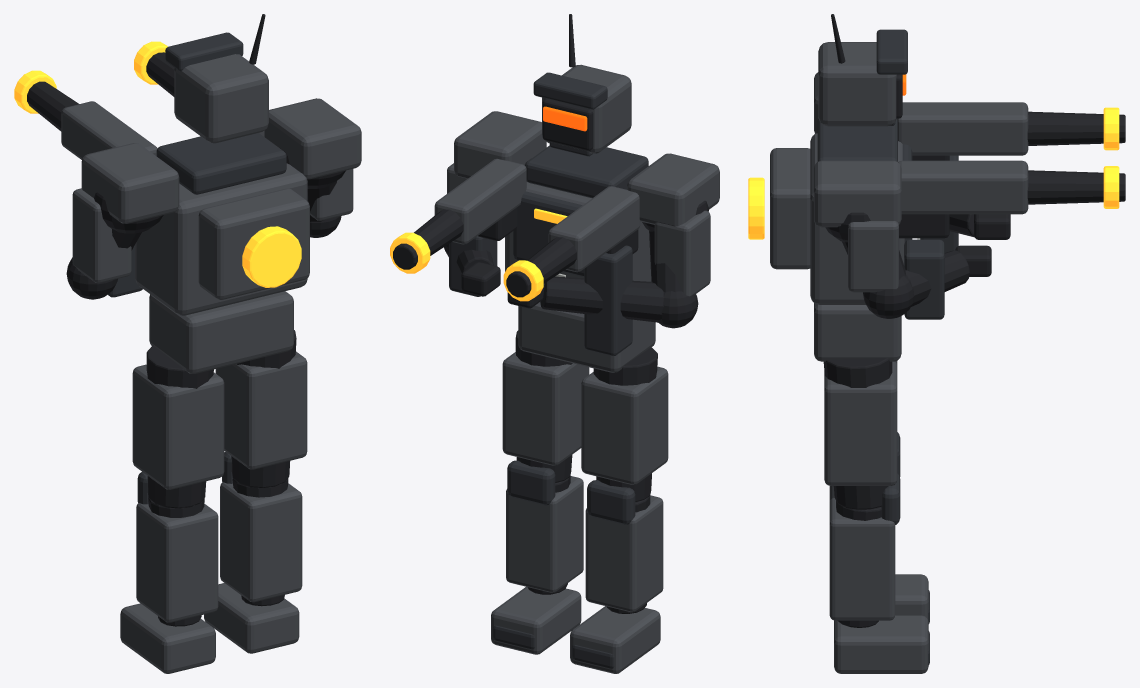
File: juggernaut.glb
3 views of the same model, side by side, from view 1: azimuth 30°, elevation 25°; view 2: azimuth 150°, elevation 25°; view 3: azimuth 270°, elevation 25° (orthographic). The views are drawn at different scales.
Visible parts, largest first — view 1: Torso, ShinL, ShinR, ArmL, ThighL, ThighR, Head, Pelvis, ArmR, Gun; view 2: ArmL, Gun, ShinL, ShinR, ThighL, ThighR, Torso, Head, ArmR, Pelvis; view 3: Gun, ArmR, ShinR, Torso, ThighR, Head, Pelvis, ArmL, ShinL.
Part boxes in pixels (x1,y1,x2,y2): Torso: (135,133,309,315); ShinL: (120,472,218,673); ShinR: (204,452,302,653); ArmL: (66,143,179,299); ThighL: (132,345,224,508); ThighR: (215,330,307,487); Head: (165,14,268,143); Pelvis: (149,291,293,373); ArmR: (264,98,361,237); Gun: (14,41,264,159); ArmL: (507,153,719,355); Gun: (390,158,640,301); ShinL: (570,480,663,673); ShinR: (491,460,583,654); ThighL: (581,347,668,501); ThighR: (502,330,589,482); Torso: (505,145,651,281); Head: (533,14,631,156); ArmR: (444,111,546,296); Pelvis: (518,302,655,372); Gun: (897,102,1125,238); ArmR: (814,160,991,319); ShinR: (829,473,929,673); Torso: (748,118,912,304); ThighR: (823,358,897,509); Head: (818,14,907,126); Pelvis: (814,303,901,361); ArmL: (814,72,1010,252); ShinL: (829,432,929,623).
Bounding box in the file's own units: 0.9765 × 2.25 × 1.2.
